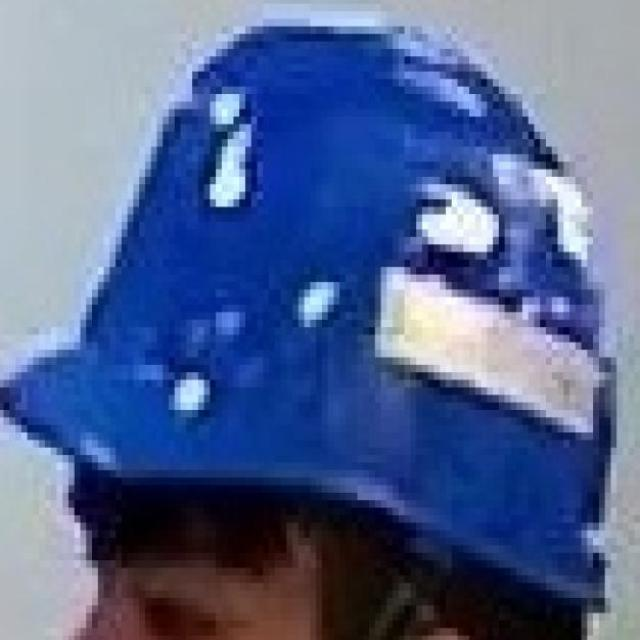helmet: (0, 2, 633, 627)
